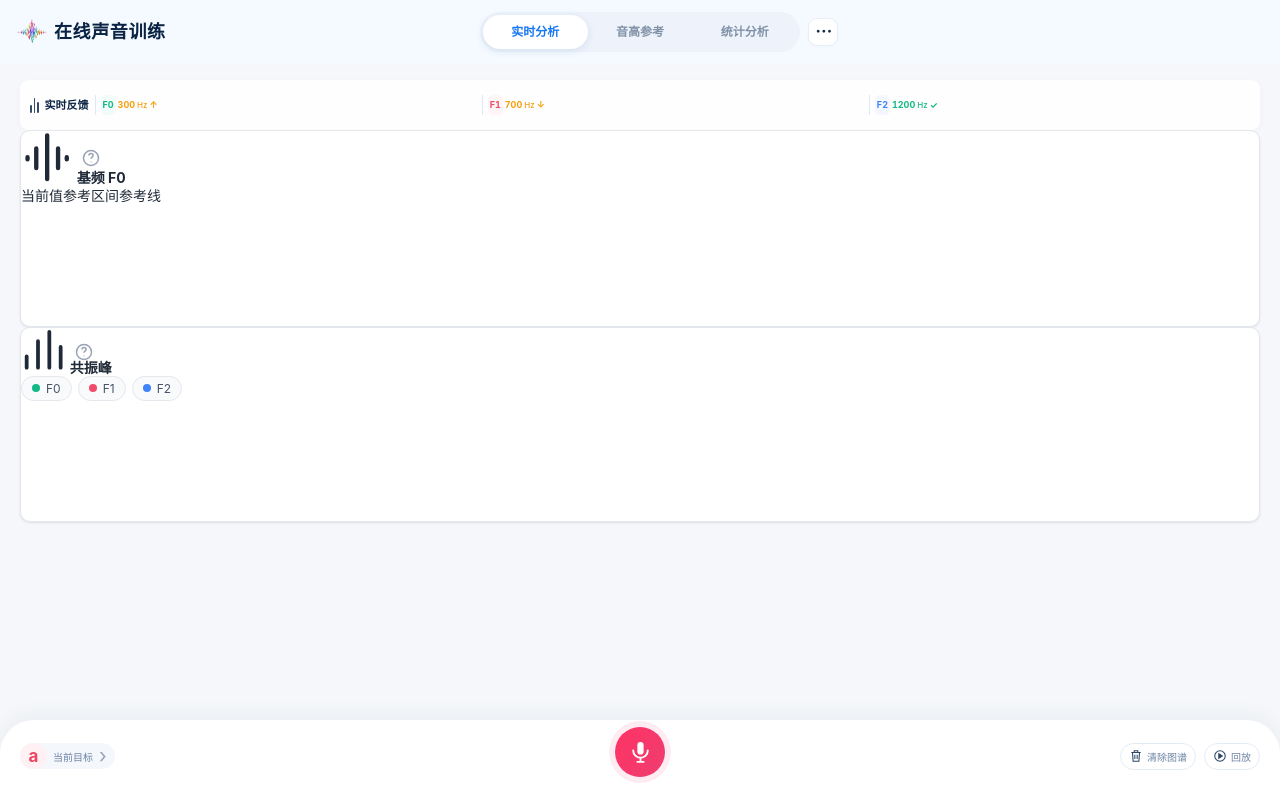
Test: AppShell toolbar density › clears the real portrait feedback through the dock action
This screenshot has width=1280, height=800.
Expected: the element with test id "hero-col-f0" shows "↑", left=150, top=99, right=158, bottom=110
Click the button "清除图谱" at (1158, 756), box left=1120, top=742, right=1196, bottom=770
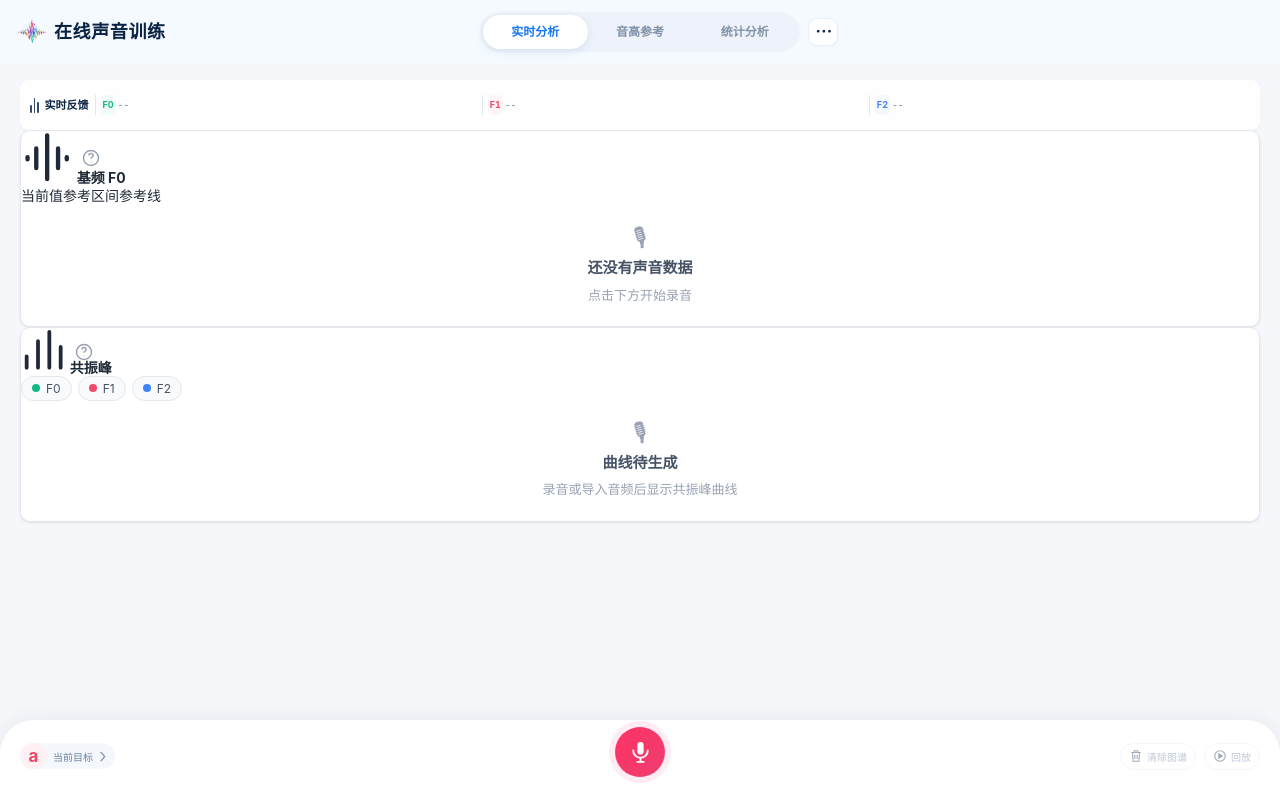
Expected: the text with test id "hero-f0" reads "--", left=118, top=99, right=129, bottom=110
